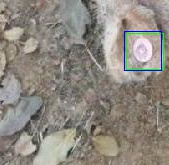text: (126, 33, 163, 69)
